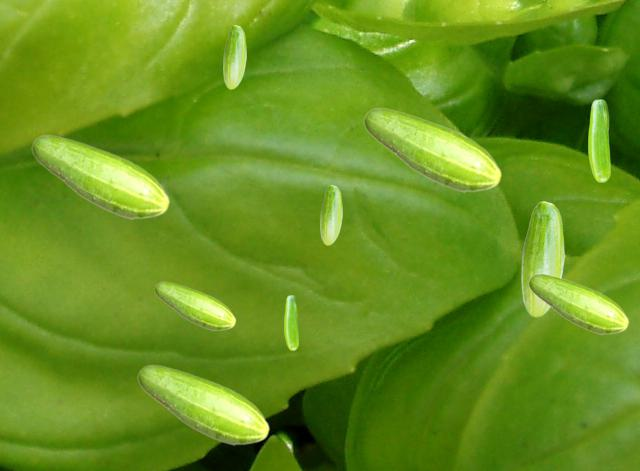cucumber: (363, 107, 501, 192), (31, 134, 169, 219), (137, 364, 269, 445), (528, 273, 628, 334), (521, 201, 563, 316), (154, 281, 235, 330), (588, 99, 609, 181), (223, 25, 245, 88), (320, 185, 341, 244), (284, 295, 297, 349)
